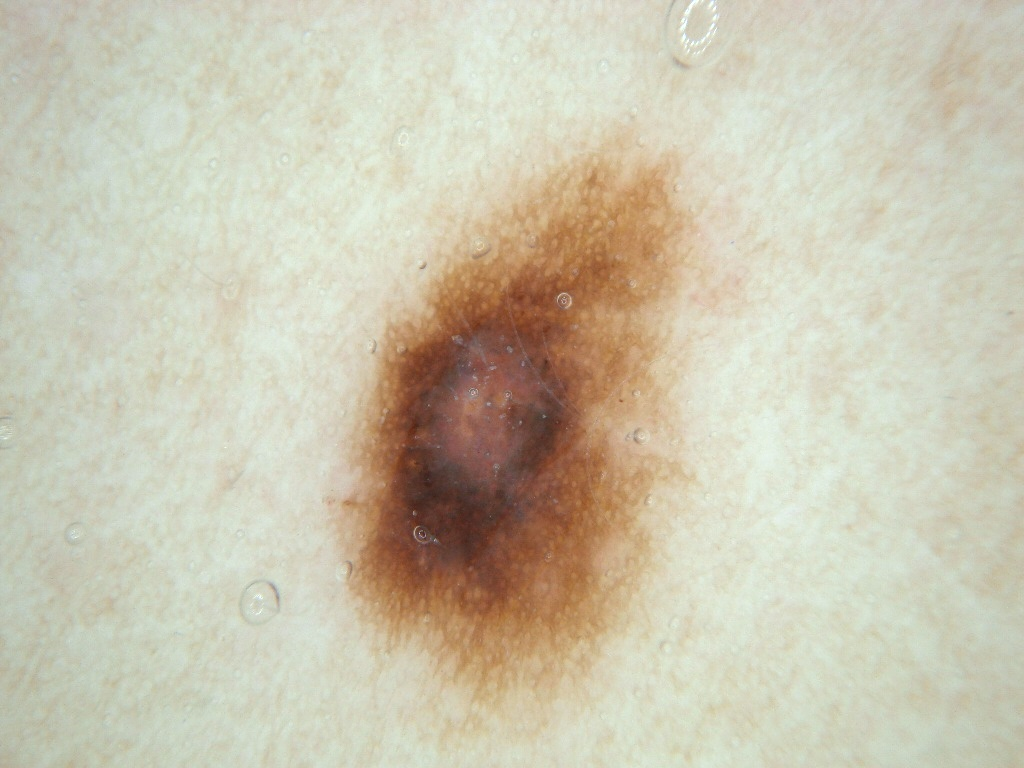Detected Lesion: (327, 133, 734, 707)
